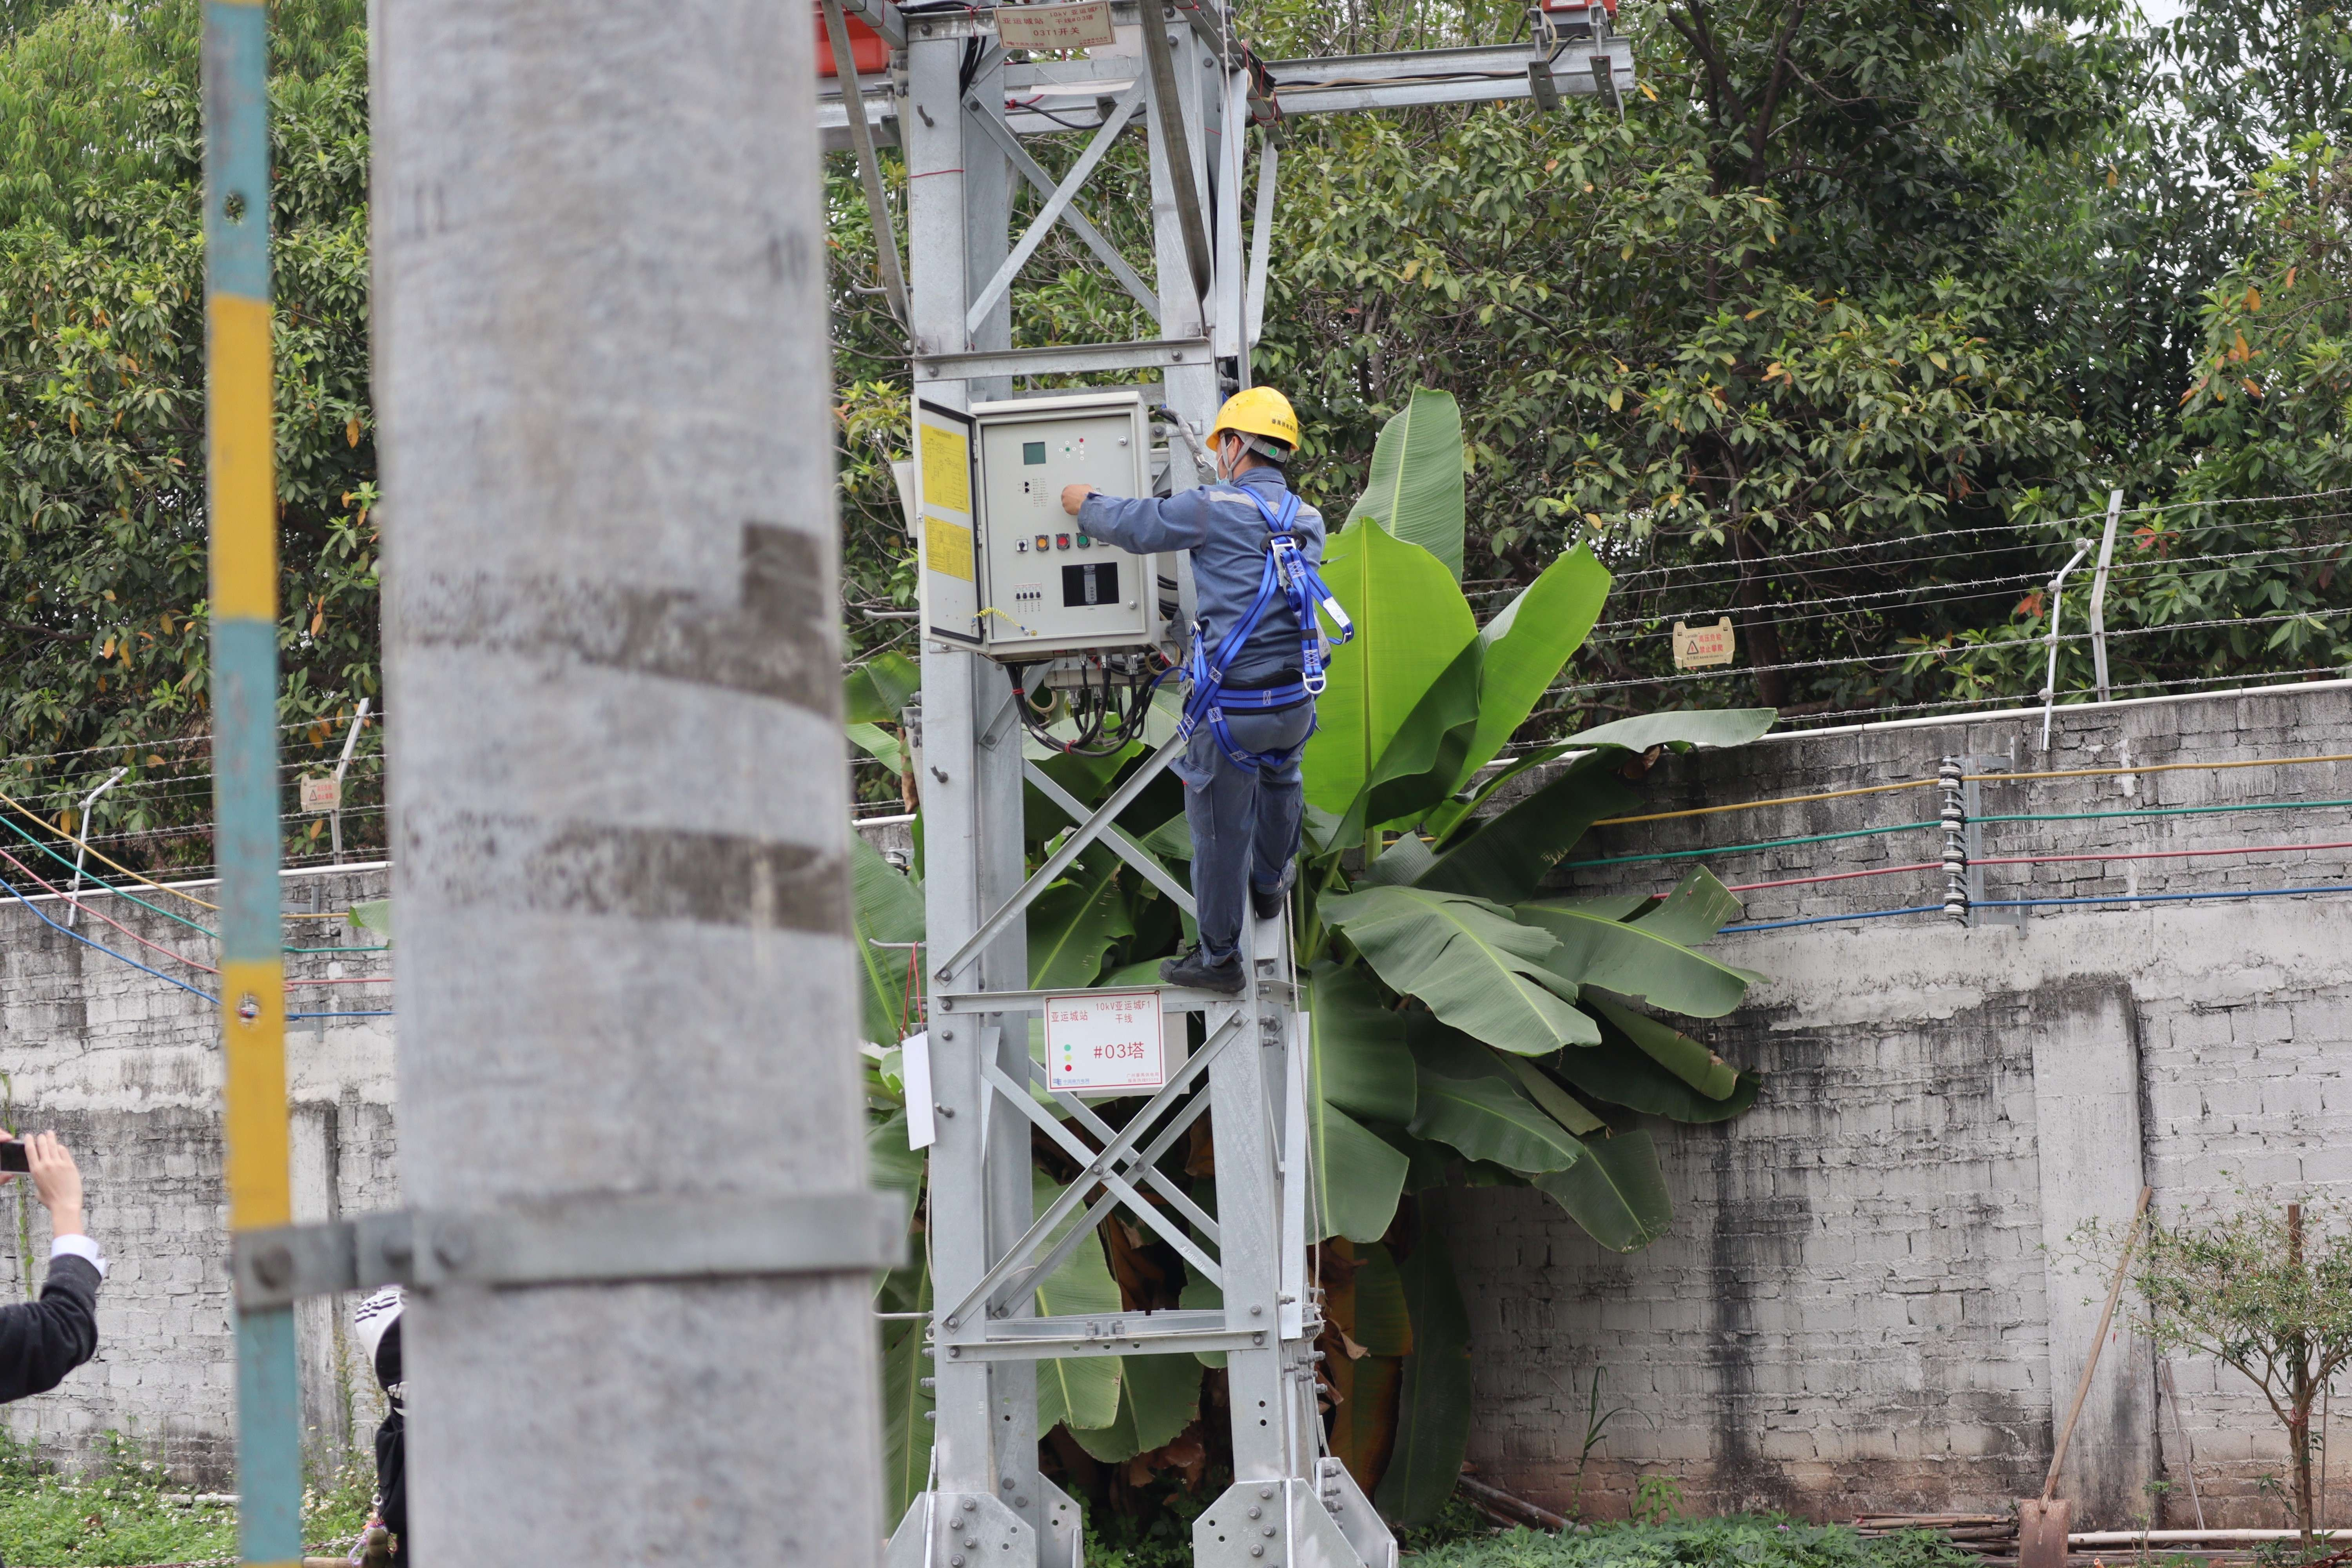downsuit: (1190, 677, 1307, 949)
upsuit: (1081, 467, 1339, 661)
